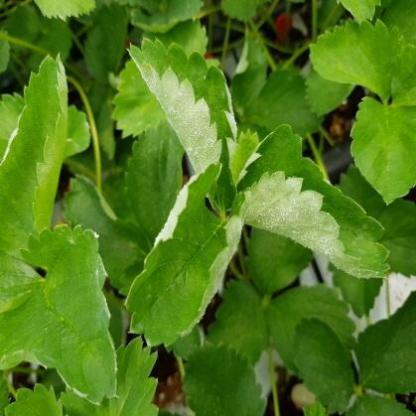Strawberry_Powdery_Mildew_Leaf: (228, 124, 392, 280), (123, 162, 244, 349), (0, 222, 118, 405), (126, 36, 240, 217), (0, 51, 69, 288)
